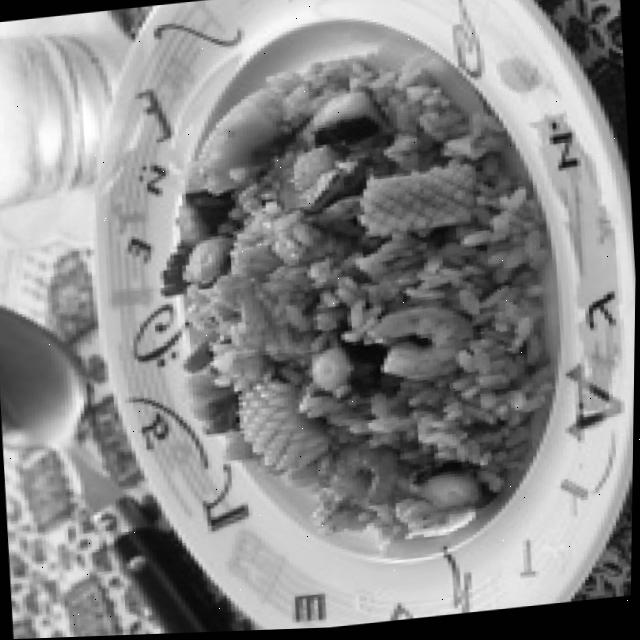米饭主食: (42, 0, 640, 639)
